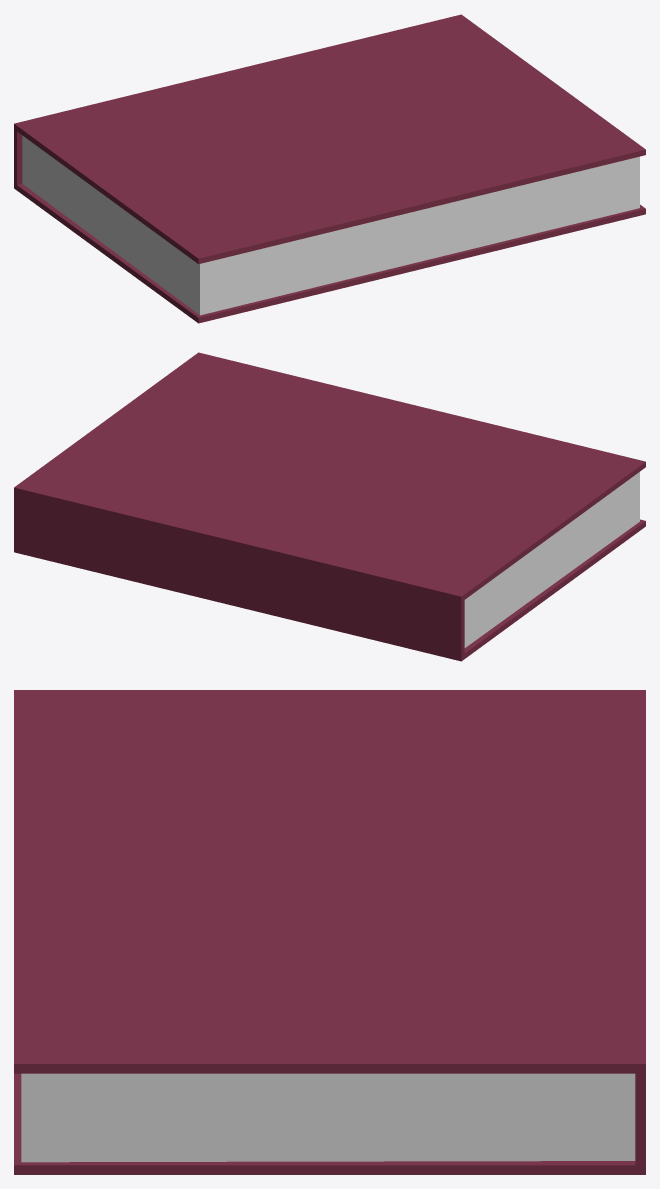
The model's file is ThrowProp_BookMediumPurple.FBX.
3 renders of one model, top to bottom at view 1: azimuth 30°, elevation 25°; view 2: azimuth 150°, elevation 25°; view 3: azimuth 270°, elevation 25°, orthographic. The views are drawn at different scales.
Parts seen in each view (by area): view 1: Book_MediumPurple; view 2: Book_MediumPurple; view 3: Book_MediumPurple.
Part boxes in pixels (<box>): Book_MediumPurple: <box>14,14,645,323</box>; Book_MediumPurple: <box>14,352,645,661</box>; Book_MediumPurple: <box>14,690,645,1174</box>.
Bounding box in the file's own units: 19.15 × 2.65 × 13.68.
1 material, 1 textured.
